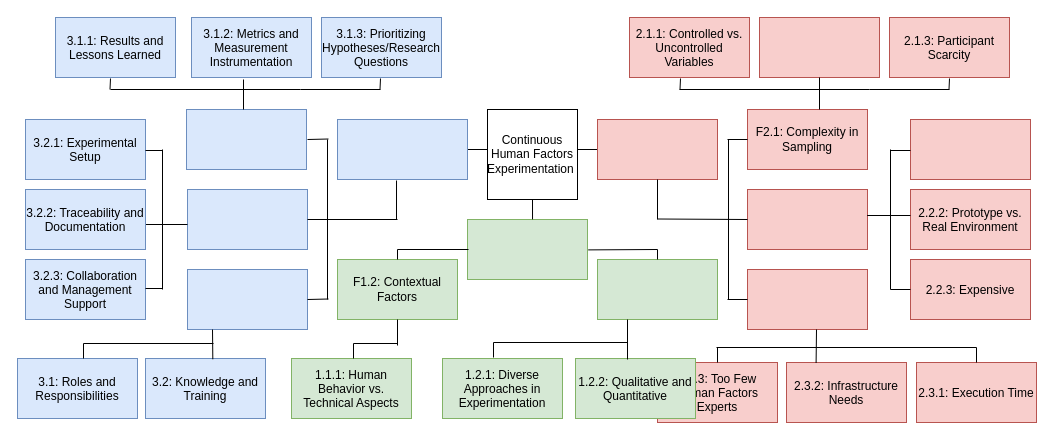
Some shapes in this 1054 by 440 pixel diagram are drawn without their labels. The shapes that lost their labels are listed below. From the top down, each one's centre as x and y in pixels, then its label:
At pixel 819 47: "2.1.2: Statistical Analysis".
At pixel 246 139: "F3.1: Research Methods and Practices".
At pixel 402 149: "RQ3: Management".
At pixel 657 149: "RQ2: Challenges".
At pixel 970 149: "2.2.1: Personal Information and GDPR Issues".
At pixel 247 219: "F3.2: Infrastructure Needs".
At pixel 807 219: "F2.2: Nature of Experiments".
At pixel 527 249: "RQ1: Continuous Experimentation vs. Human Factors Experiments".
At pixel 247 299: "F3.3: Research Skills".
At pixel 657 289: "F1.2: Methodological Approach".
At pixel 807 299: "F2.3: Integration in Development Lifecycle".
